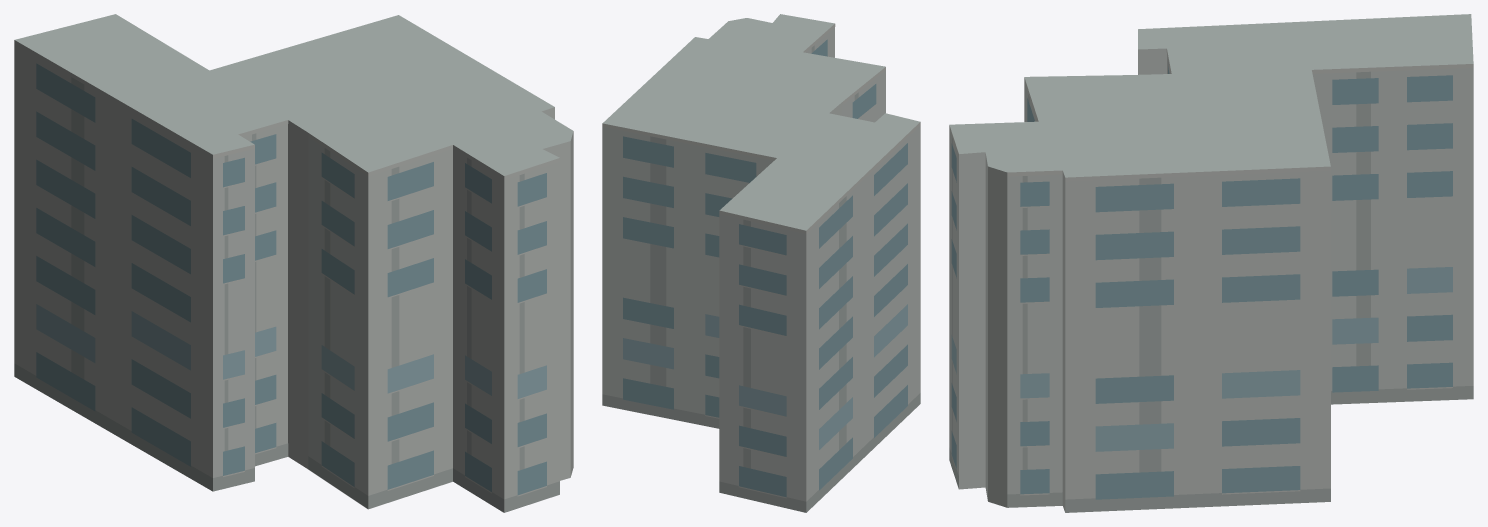
The model's file is survey-upis-32923831.glb.
3 views of the same model, side by side, from view 1: azimuth 30°, elevation 25°; view 2: azimuth 150°, elevation 25°; view 3: azimuth 270°, elevation 25° (orthographic). The views are drawn at different scales.
Parts seen in each view (by area): view 1: survey-upis-32923831.tmp; view 2: survey-upis-32923831.tmp; view 3: survey-upis-32923831.tmp.
Part boxes in pixels (x1=…): survey-upis-32923831.tmp: x1=14, y1=14, x2=573, y2=512; survey-upis-32923831.tmp: x1=602, y1=14, x2=920, y2=512; survey-upis-32923831.tmp: x1=949, y1=14, x2=1473, y2=512.
Bounding box in the file's own units: 20.93 × 20 × 28.35.
